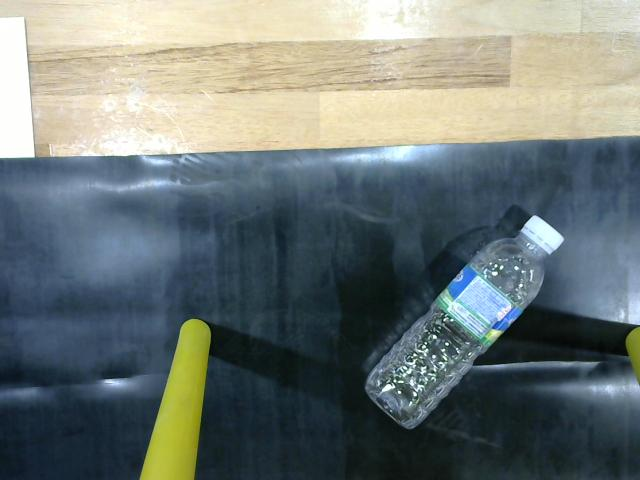bottle: (357, 211, 576, 436)
